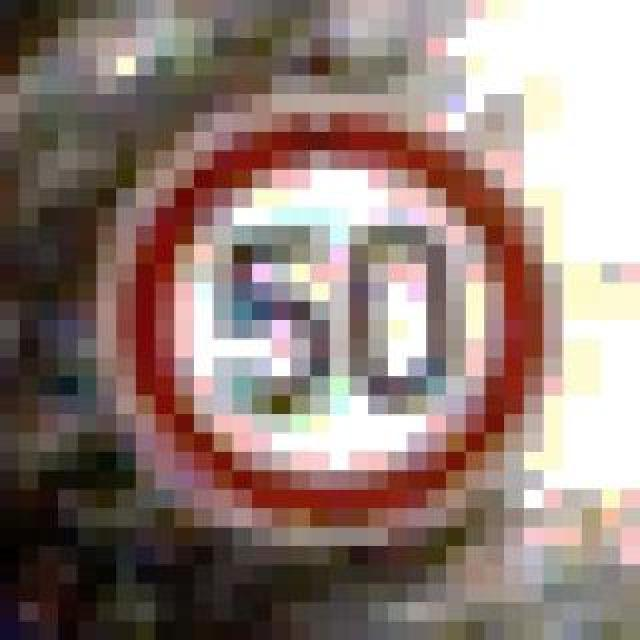50 kph: (78, 56, 542, 546)
